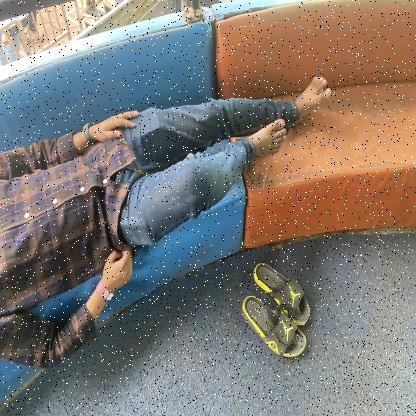hand: (55, 235, 162, 336), (62, 98, 145, 150)
leg: (206, 117, 290, 181), (262, 68, 338, 126)
